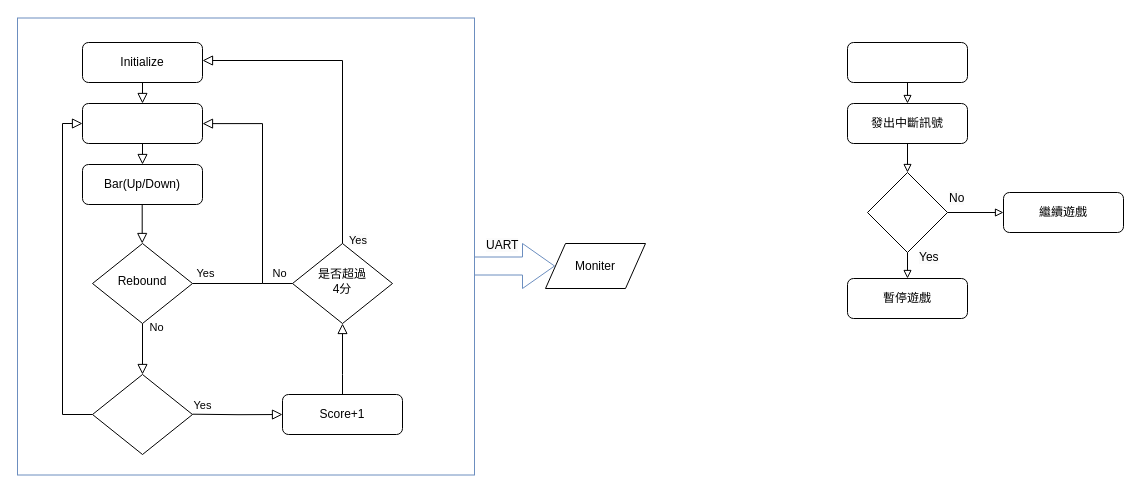
Some shapes in this 1141 by 492 pixel diagram are drawn without their labels. The shapes that lost their labels are listed below. From the top down, each one's centre as x and y in pixels, then its label:
At pixel 907 62: "按下暫停按鈕".
At pixel 142 123: "Move".
At pixel 907 212: "是否遊戲中".
At pixel 142 414: "Ball ob".
